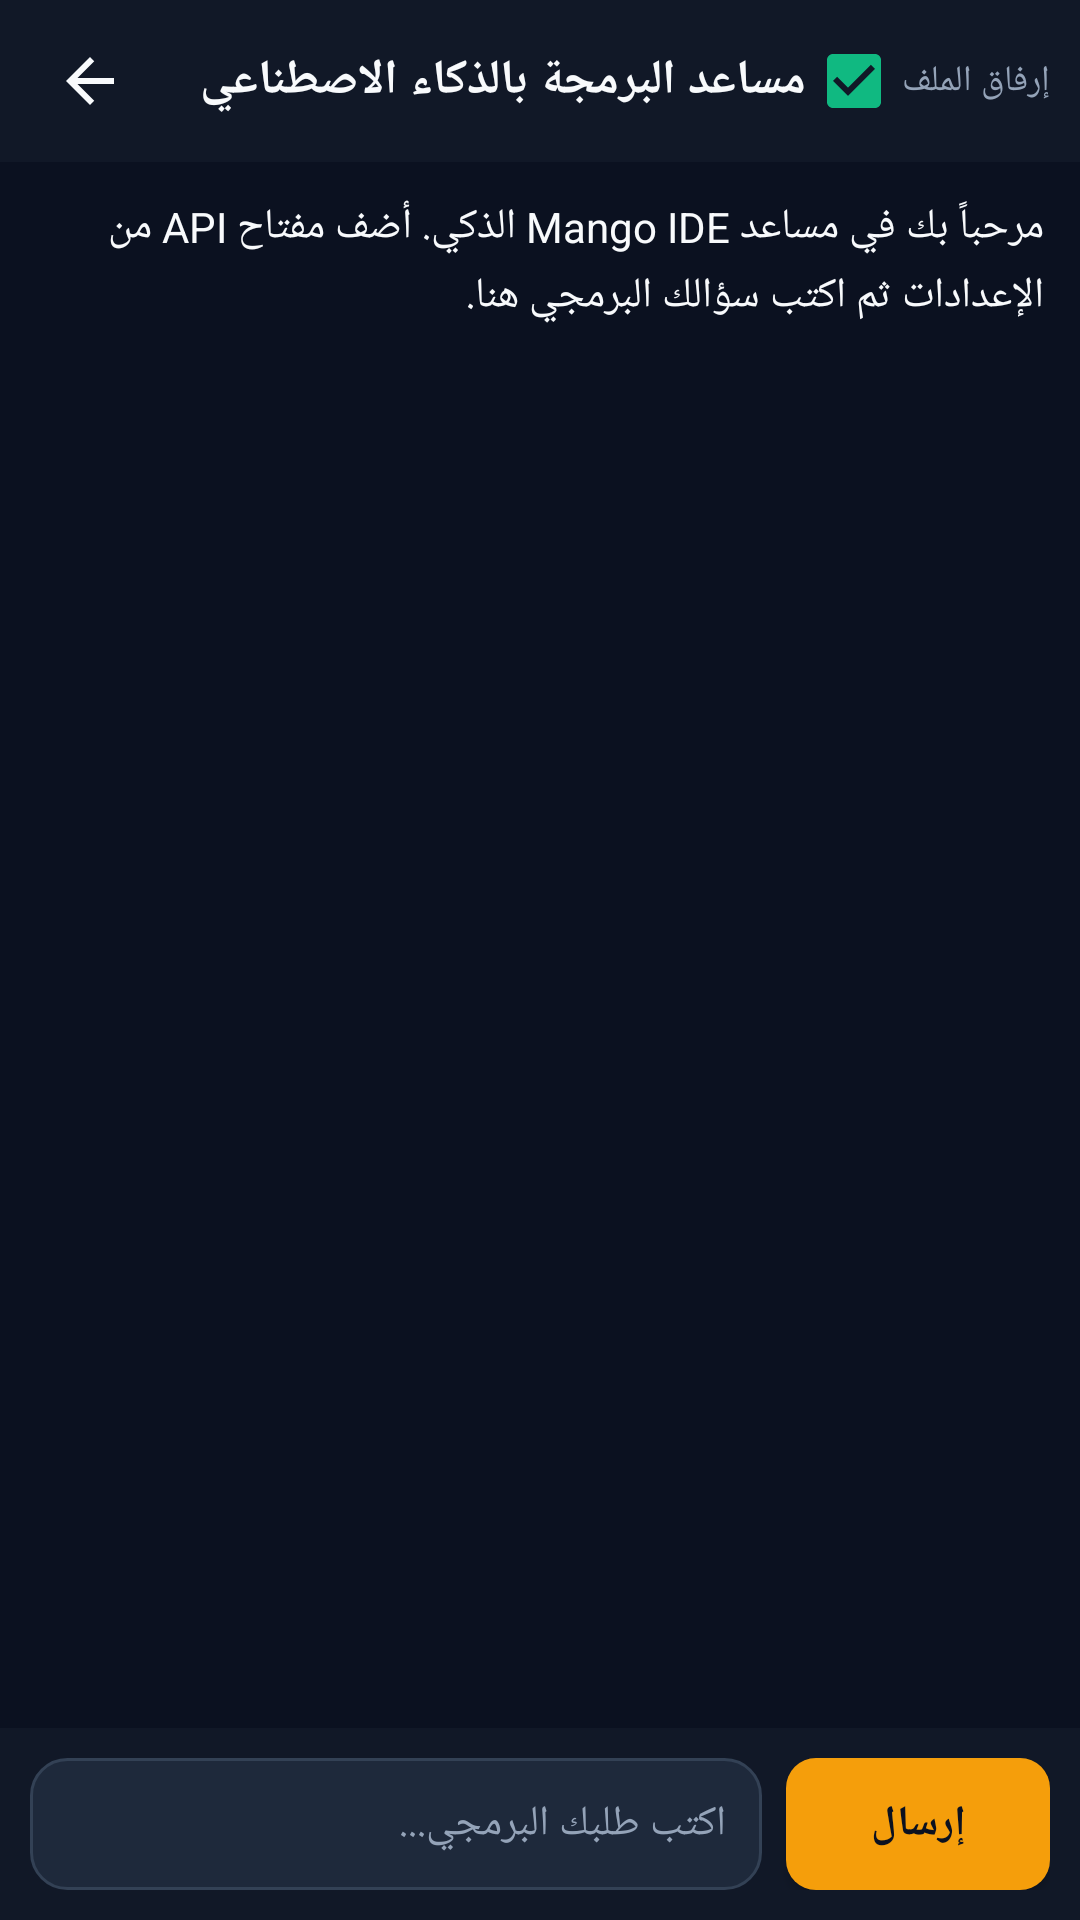

Locate icon controls on the screen. Image size 1080 x 1920, boxes as {"left": x1, "top": y1, "right": x2, "bottom": y2}.
رجوع: {"left": 66, "top": 57, "right": 114, "bottom": 105}
